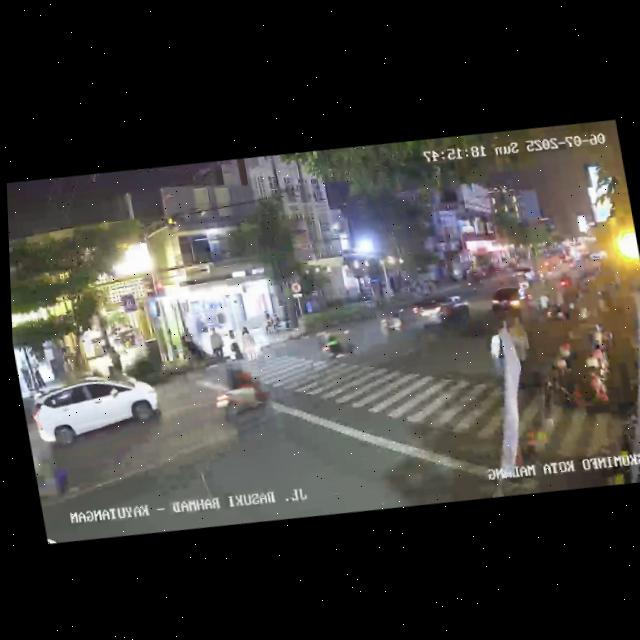car: (25, 367, 165, 458), (405, 291, 473, 337), (487, 281, 535, 317)
motorcycle: (207, 355, 278, 433), (317, 324, 360, 367), (378, 307, 409, 341), (537, 289, 557, 322)
person: (484, 320, 515, 388), (506, 314, 536, 382), (206, 325, 225, 361), (238, 323, 256, 359), (226, 327, 244, 362), (108, 343, 124, 376), (179, 331, 195, 363), (31, 357, 45, 390), (19, 361, 34, 391)
